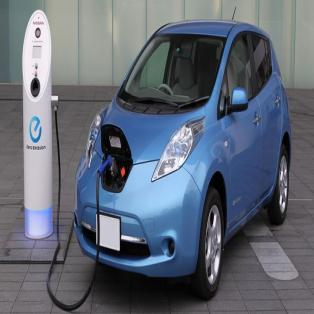Auto: (74, 22, 293, 300)
